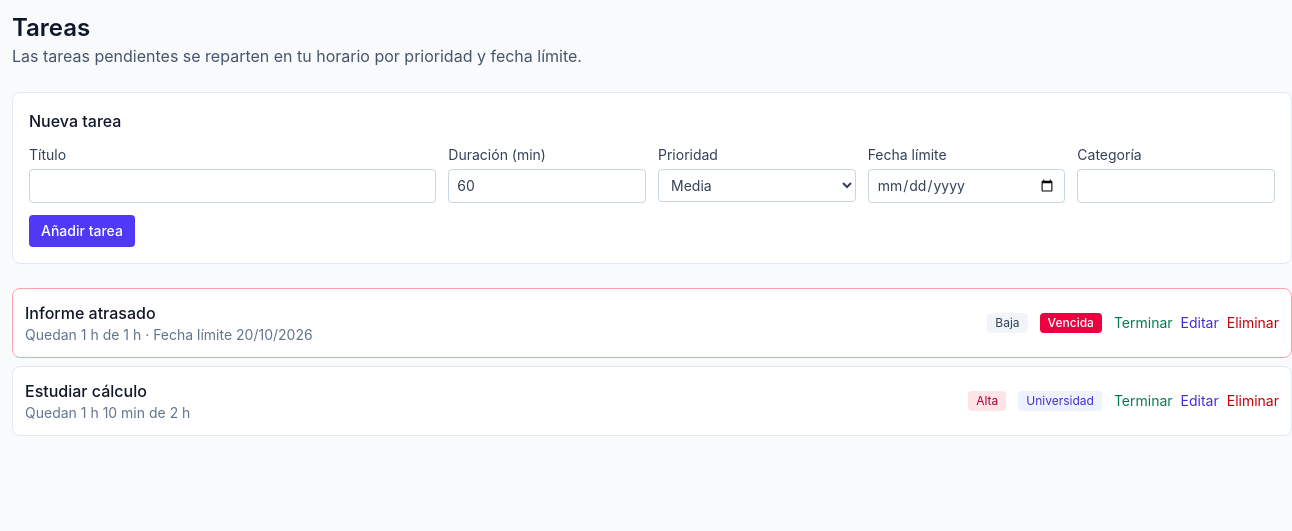
Scenario: TasksPage (US3) › crea una tarea con los campos del contrato
The width and height of the screenshot is (1292, 531).
Expected: the text "Estudiar cálculo" is shown, [25, 381, 147, 401]
Type "Leer artículo" into the field labelled "Título".
click(233, 186); type("Leer artículo")  # box [29, 169, 436, 203]
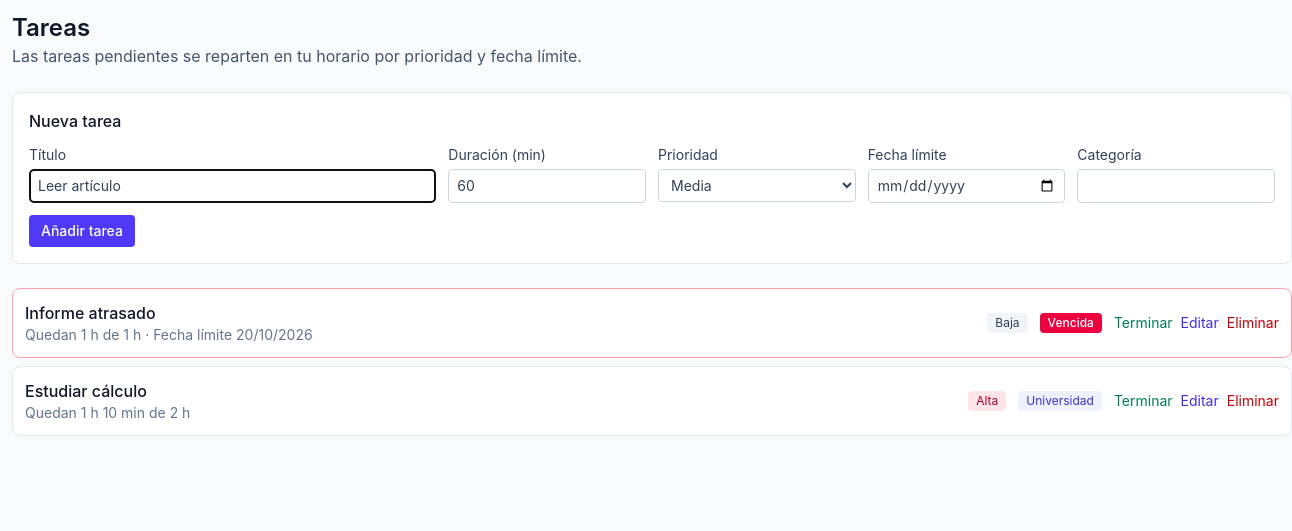
Replace the text in the number field labelled "Duración (min)" with "45" at (547, 186), box [448, 169, 646, 203]
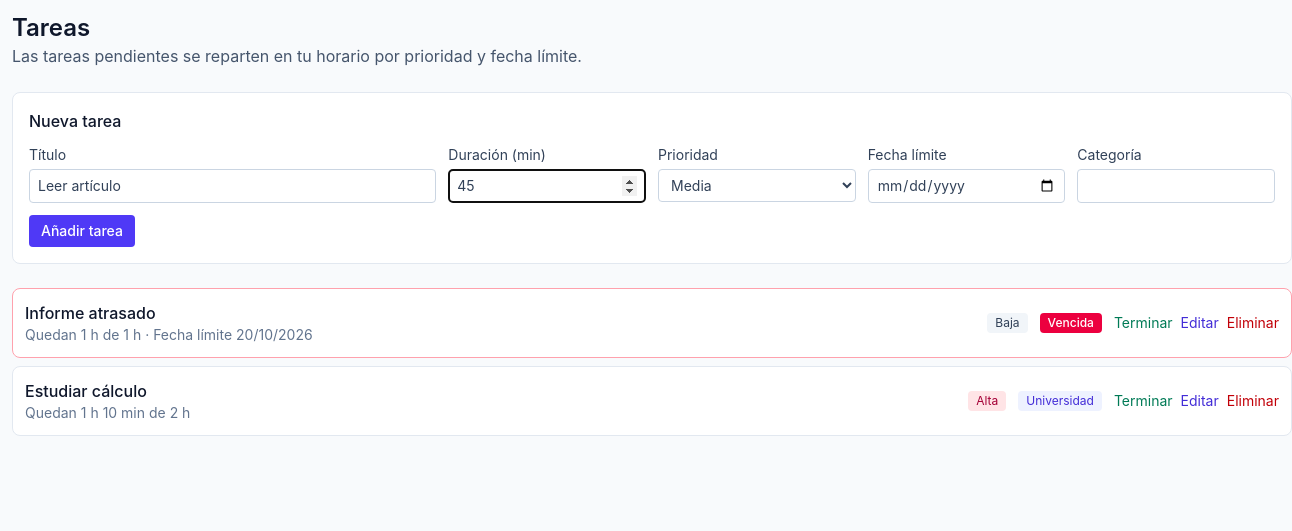
Select "Alta" in the dropdown labelled "Prioridad" at (757, 186), box [658, 169, 856, 202]
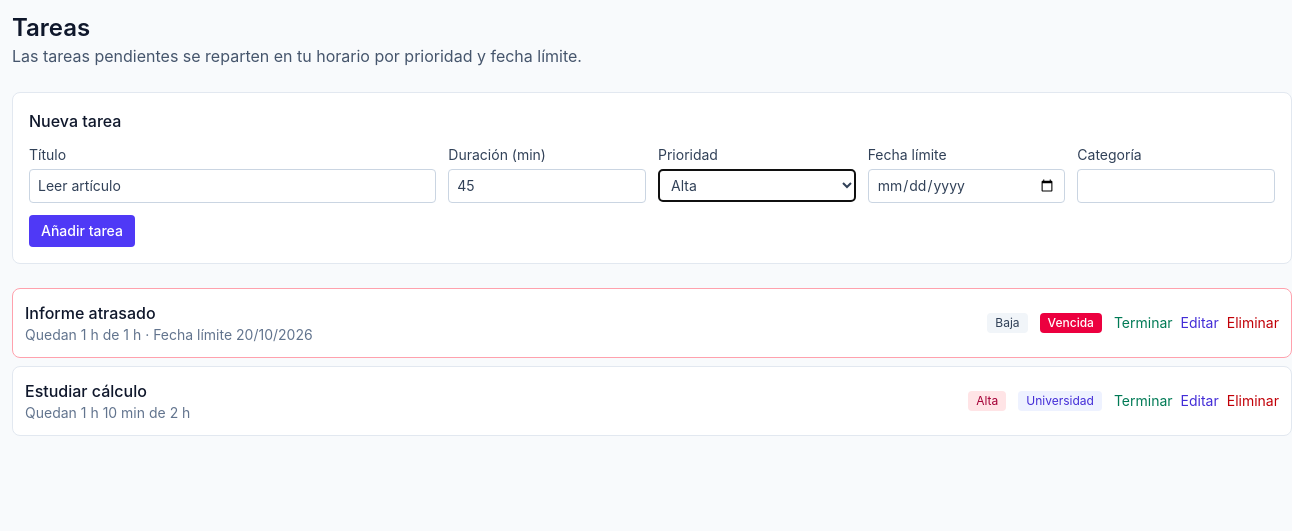
Type "2026-10-30" into the date field labelled "Fecha límite".
click(967, 186); type("2026-10-30")  # box [868, 169, 1065, 203]
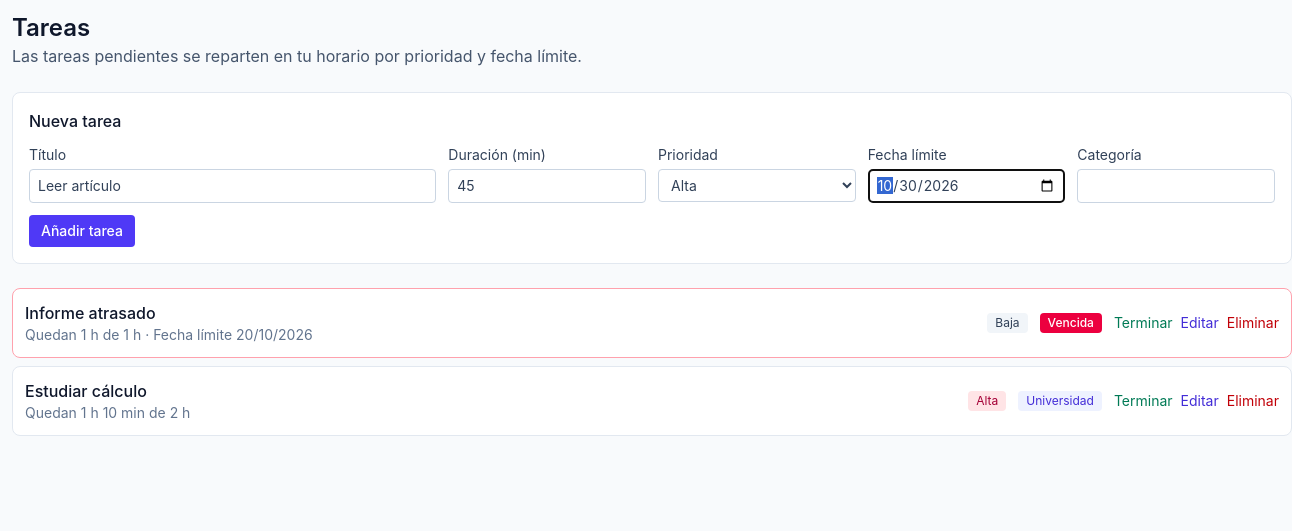
Type "Lecturas" into the field labelled "Categoría".
click(1176, 186); type("Lecturas")  # box [1077, 169, 1275, 203]
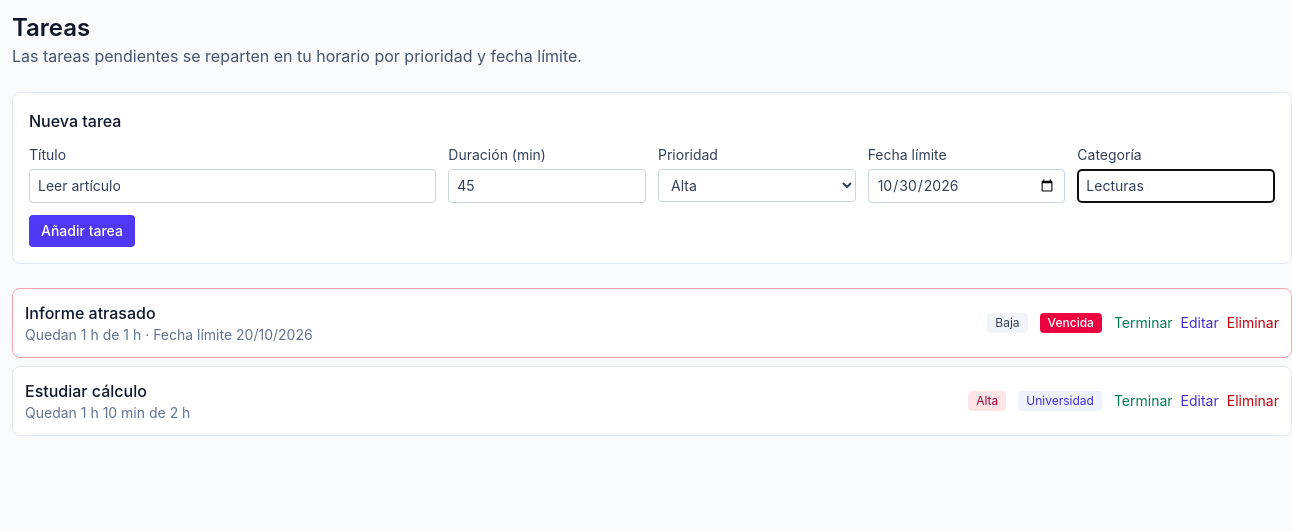
Click the button "Añadir tarea".
click(82, 231)  # box [29, 215, 135, 247]
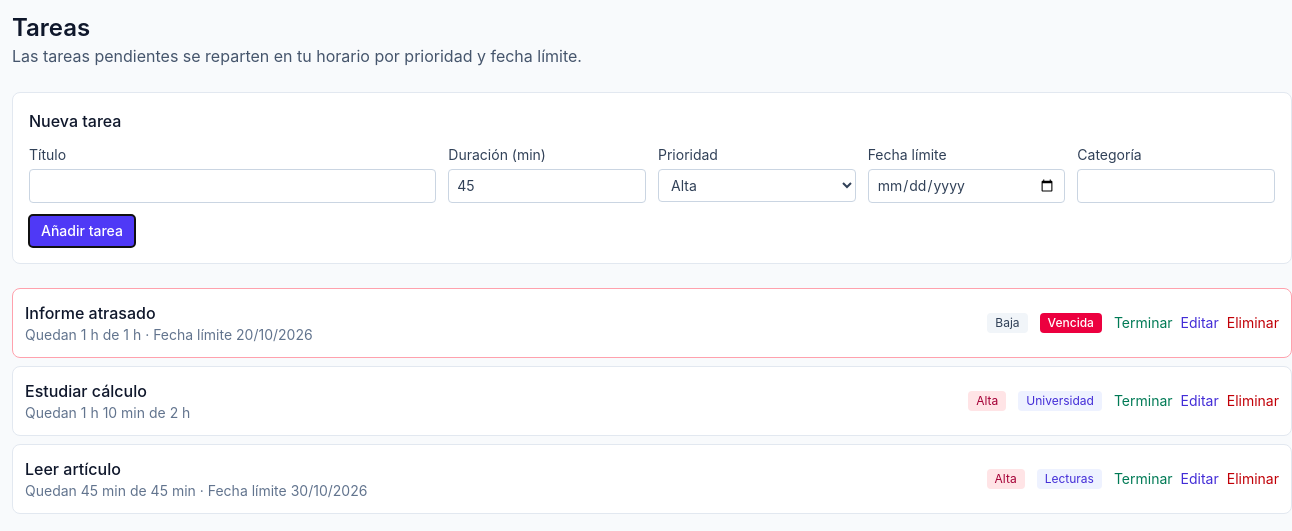
Expected: the text "Leer artículo" is shown, [25, 459, 121, 479]
